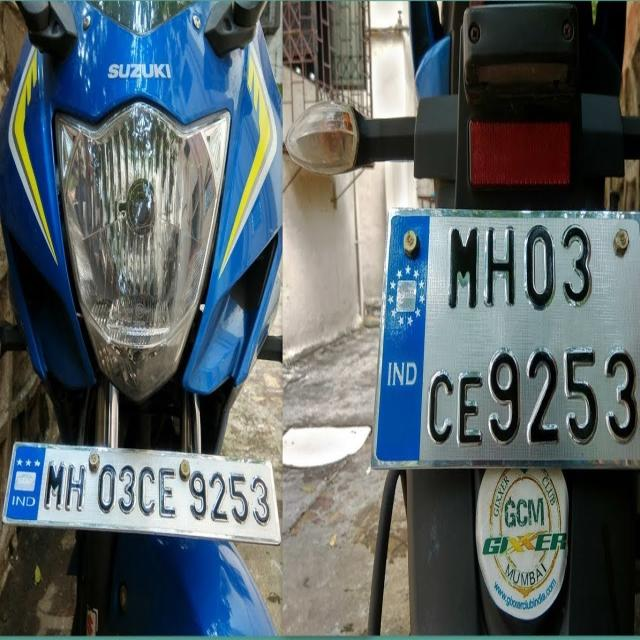plate: (379, 198, 640, 481), (5, 440, 281, 550)
